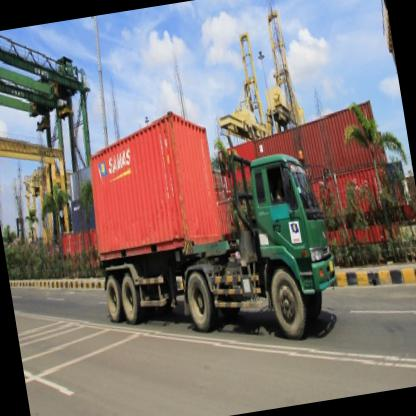truck: (242, 144, 348, 345)
